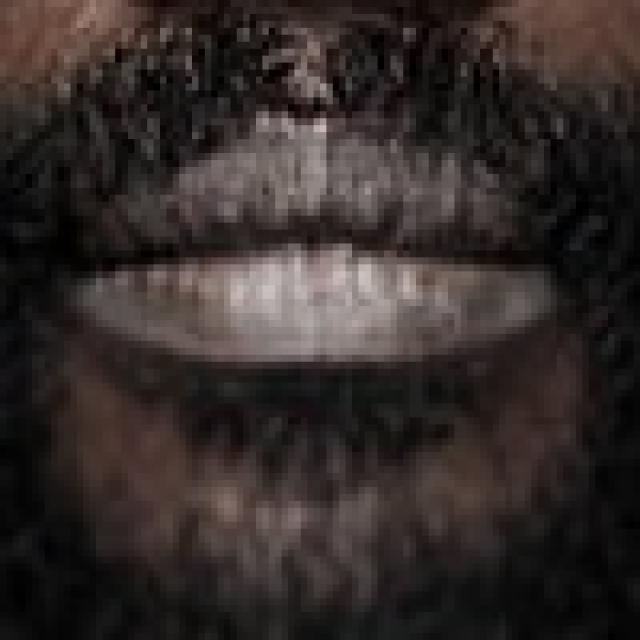closed-mouth: (64, 112, 563, 383)
